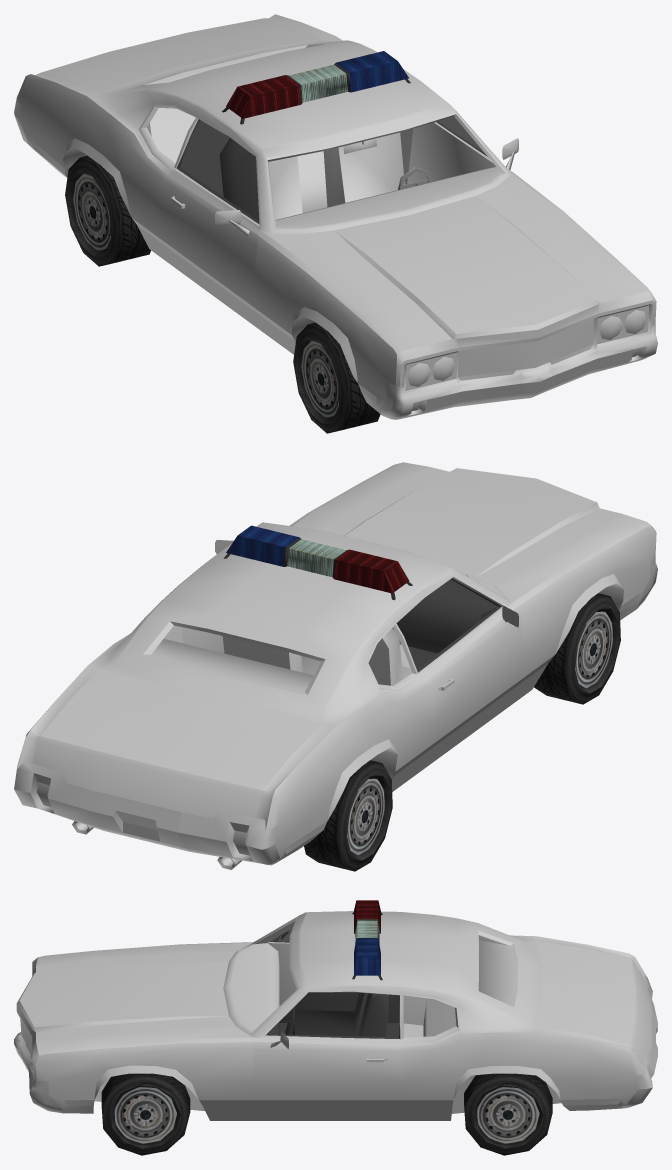
Rendered from PoliceCar.FBX.
3 views of the same model, one above another, from view 1: azimuth 30°, elevation 25°; view 2: azimuth 150°, elevation 25°; view 3: azimuth 270°, elevation 25° (orthographic). The views are drawn at different scales.
Parts seen in each view (by area): view 1: Body, RightDoor, BR, FR, LeftDoor; view 2: Body, RightDoor, BR, FR, LeftDoor; view 3: Body, LeftDoor, BL, FL, RightDoor.
Boxes of the visible parts, box(x1,y1,x2,y2) form: Body: box(14, 14, 657, 419); RightDoor: box(160, 119, 268, 336); BR: box(65, 155, 150, 266); FR: box(293, 322, 380, 433); LeftDoor: box(407, 116, 518, 183); Body: box(14, 462, 657, 869); RightDoor: box(396, 578, 524, 777); BR: box(304, 760, 392, 871); FR: box(534, 593, 620, 704); LeftDoor: box(181, 540, 233, 653); Body: box(14, 900, 657, 1120); LeftDoor: box(254, 992, 401, 1120); BL: box(464, 1073, 552, 1155); FL: box(101, 1073, 190, 1155); RightDoor: box(268, 928, 398, 1022).
Bounding box in the file's own units: 10.85 × 7.51 × 25.04.
